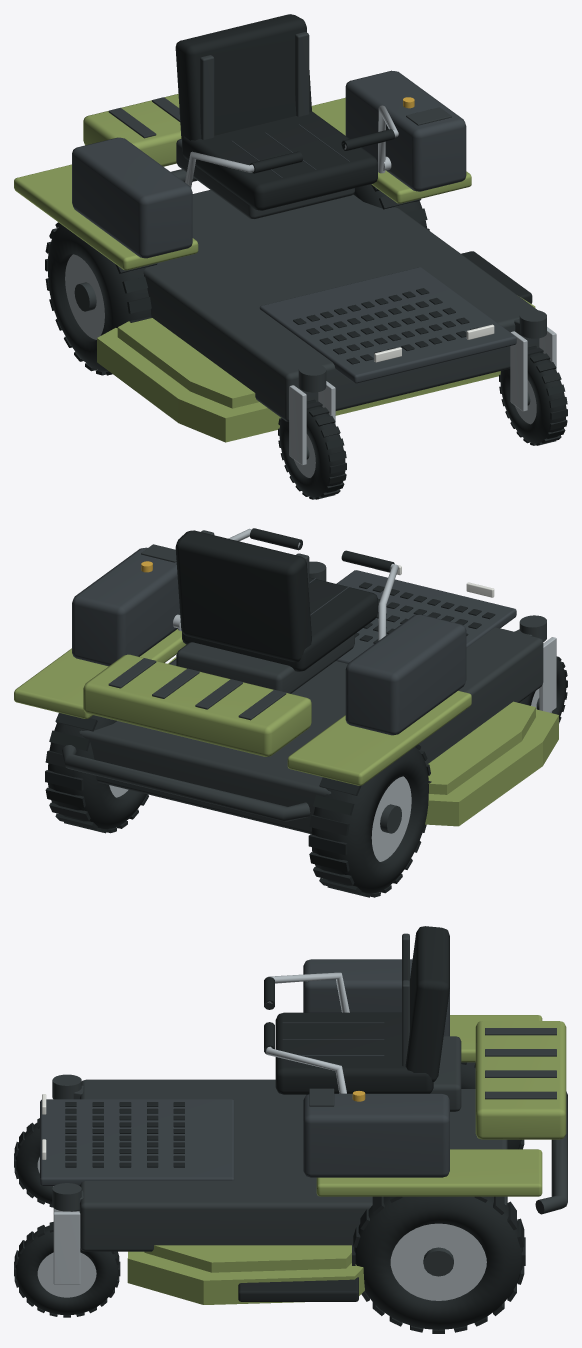
File: garage-riding-mower.glb
3 renders of one model, top to bottom at view 1: azimuth 30°, elevation 25°; view 2: azimuth 150°, elevation 25°; view 3: azimuth 270°, elevation 25°, orthographic.
Visible parts, largest first — view 1: catalog_surface_RealismUV; view 2: catalog_surface_RealismUV; view 3: catalog_surface_RealismUV.
Part boxes in pixels (<box>): catalog_surface_RealismUV: <box>14,14,567,499</box>; catalog_surface_RealismUV: <box>14,528,567,897</box>; catalog_surface_RealismUV: <box>14,926,567,1333</box>.
Size of the model in its own units: 1.45 by 1.12 by 1.83.
